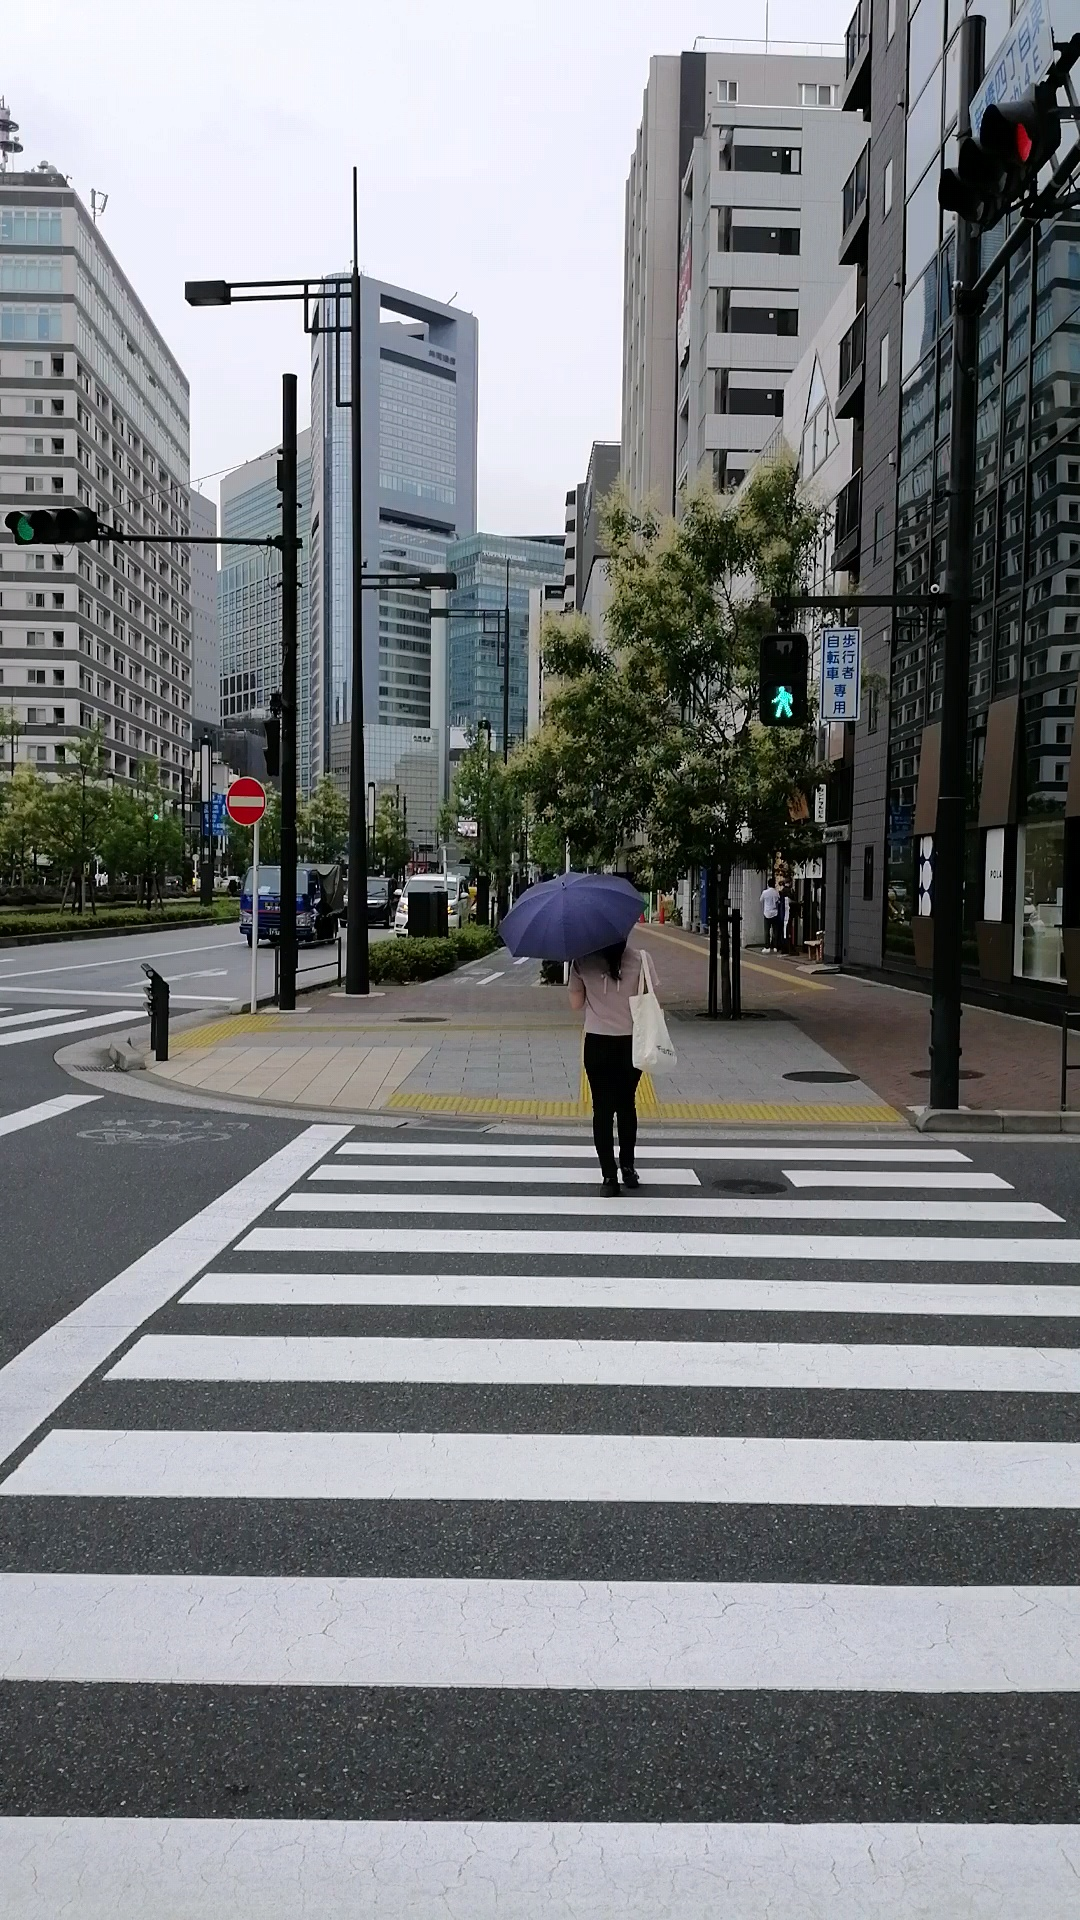green: (760, 634, 806, 727)
